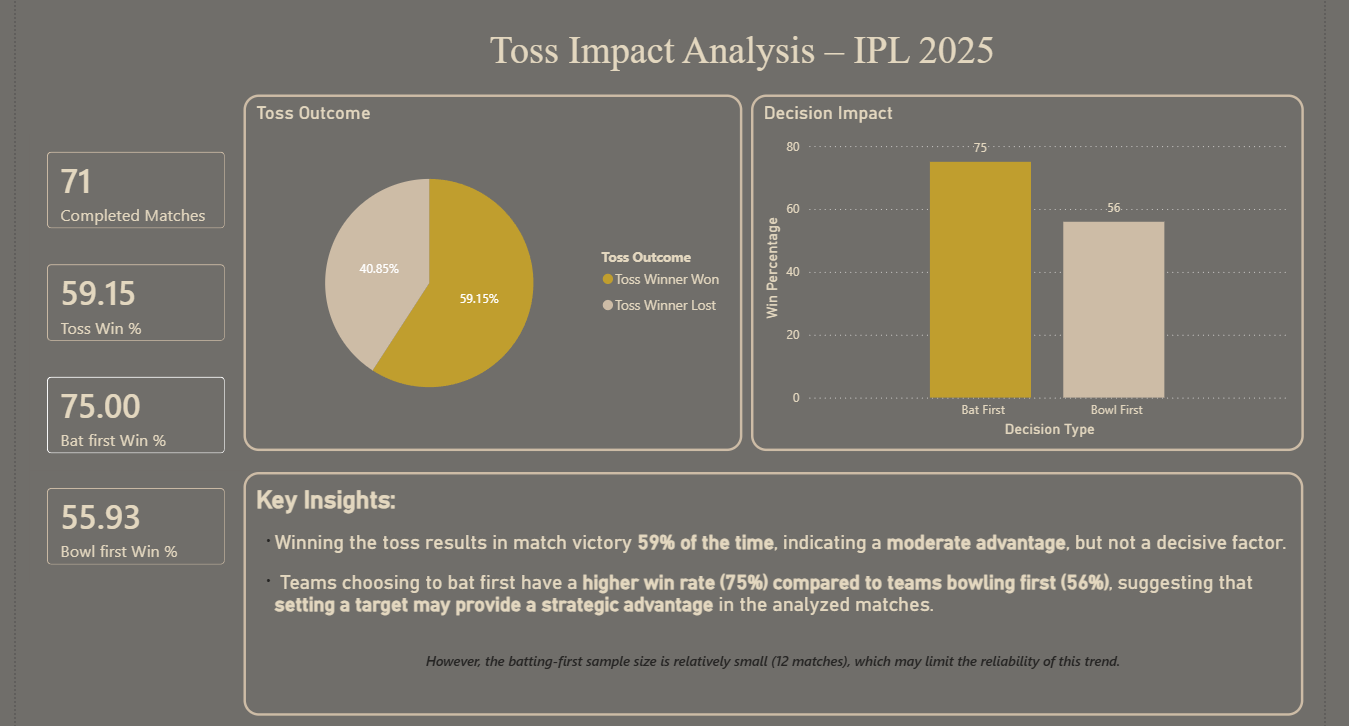

The page's visual inventory and layout, read from the dashboard file:
{"tool":"powerbi","page":{"name":"Toss Impact Overview","canvas":[1280,720],"ordinal":0},"visuals":[{"type":"cardVisual","fields":{"Data":["Sum(toss_impact.total_matches)"]},"box":[374.2,150.4,209.1,96.6],"z":0},{"type":"pieChart","title":"Toss Outcome","fields":{"Category":["outcome.toss_outcome"],"Y":["Sum(outcome.matches)"]},"box":[13.5,167.5,360.7,315.5],"z":1000},{"type":"cardVisual","fields":{"Data":["Sum(toss_impact.toss_win_percentage)"]},"box":[374.2,310.6,190.8,96.6],"z":1000},{"type":"clusteredColumnChart","title":"Win % by Toss Decision","fields":{"Category":["decision_impact.decision_type"],"Y":["Sum(decision_impact.win_percentage)"]},"box":[725.1,167.5,529.5,315.5],"z":2000},{"type":"cardVisual","fields":{"Data":["Max(decision_impact.win_percentage)"]},"box":[545.4,229.9,177.3,97.8],"z":2000},{"type":"cardVisual","fields":{"Data":["Min(decision_impact.win_percentage)"]},"box":[546.6,382.7,178.5,100.3],"z":3000},{"type":"textbox","box":[13.5,494,1258.3,214],"z":3000},{"type":"textbox","box":[327.7,29.3,672.6,55],"z":5000}]}

Visuals, with their boxes on the page's 1280x720 design canvas (x1, y1, x2, y2). These are canvas units, not pixel positions in the 1349x726 screenshot, which may show the page scaled, cropped or inside an application window:
cardVisual - Sum(toss_impact.total_matches): BBox(374, 150, 583, 247)
"Toss Outcome" pieChart: BBox(14, 168, 374, 483)
cardVisual - Sum(toss_impact.toss_win_percentage): BBox(374, 311, 565, 407)
"Win % by Toss Decision" clusteredColumnChart: BBox(725, 168, 1255, 483)
cardVisual - Max(decision_impact.win_percentage): BBox(545, 230, 723, 328)
cardVisual - Min(decision_impact.win_percentage): BBox(547, 383, 725, 483)
textbox: BBox(14, 494, 1272, 708)
textbox: BBox(328, 29, 1000, 84)
